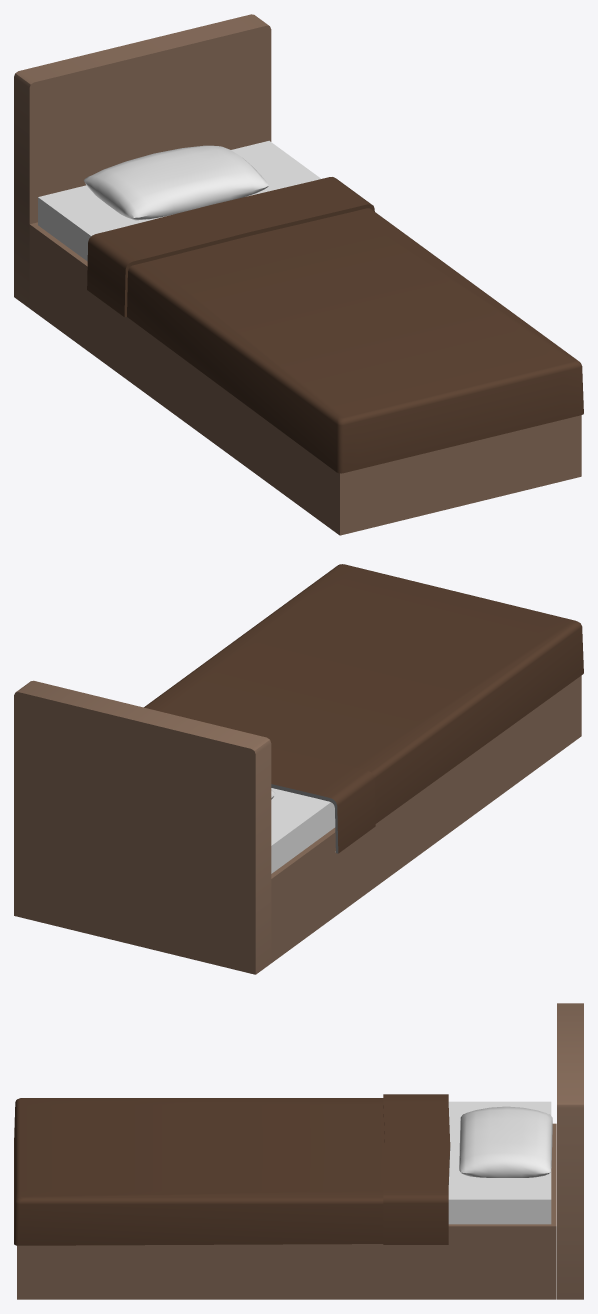
Rendered from Bed4_C2.fbx.
3 views of the same model, one above another, from view 1: azimuth 30°, elevation 25°; view 2: azimuth 150°, elevation 25°; view 3: azimuth 270°, elevation 25° (orthographic). The views are drawn at different scales.
Visible parts, largest first — view 1: Bed4_C2; view 2: Bed4_C2; view 3: Bed4_C2.
Boxes of the visible parts, x1,y1,x2,y2 form: Bed4_C2: (14,14,583,535); Bed4_C2: (14,564,583,974); Bed4_C2: (14,1003,583,1299).
Bounding box in the file's own units: 93.54 × 80 × 211.
